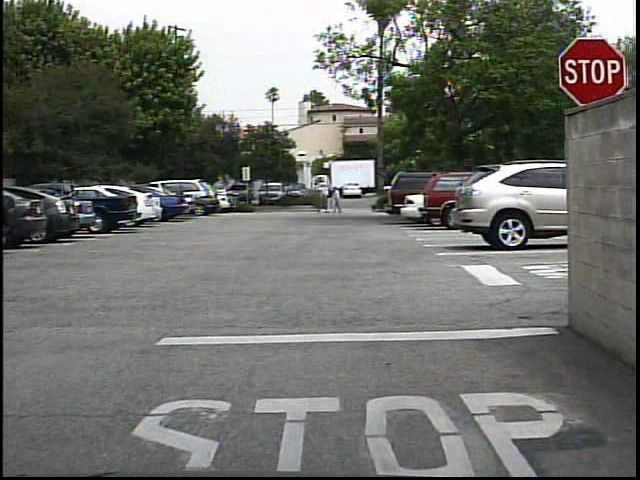person: (331, 186, 348, 216), (315, 186, 331, 215), (334, 186, 335, 217)
